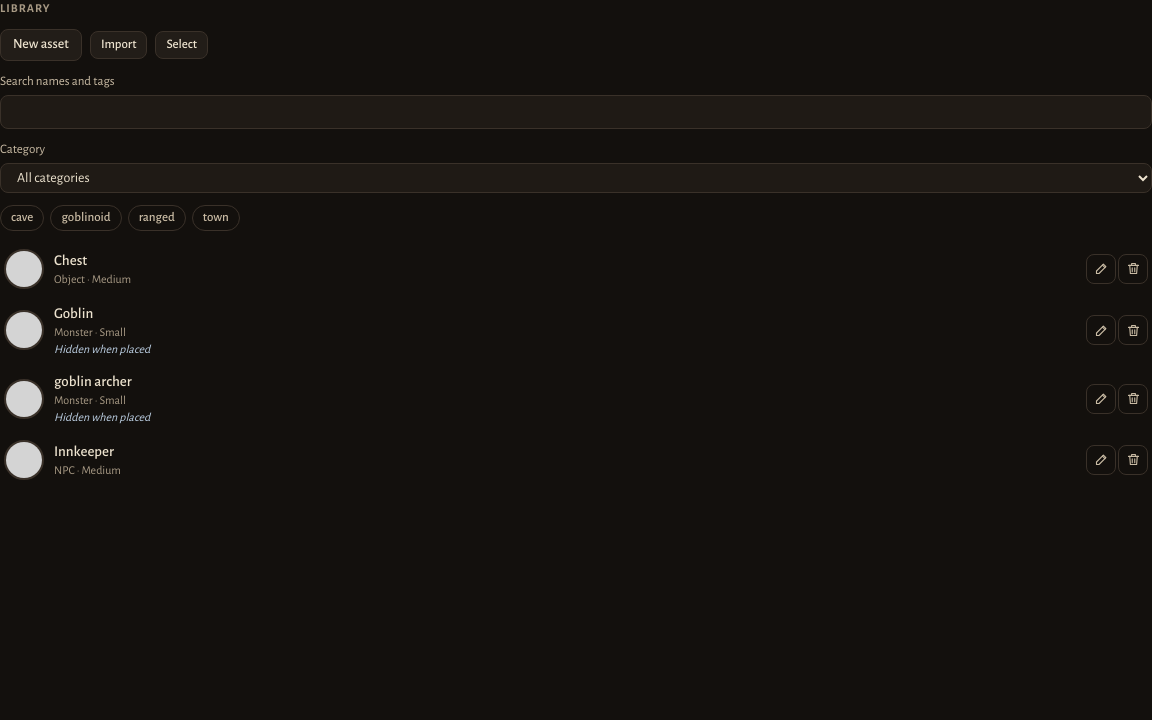
deleting (specs/03-domain-model.md §7, D-083) › lists every scene that uses an asset in use, deletes nothing and offers only Close
Click the button named "Delete Goblin".
click(1133, 330)  # box [1118,315,1148,345]
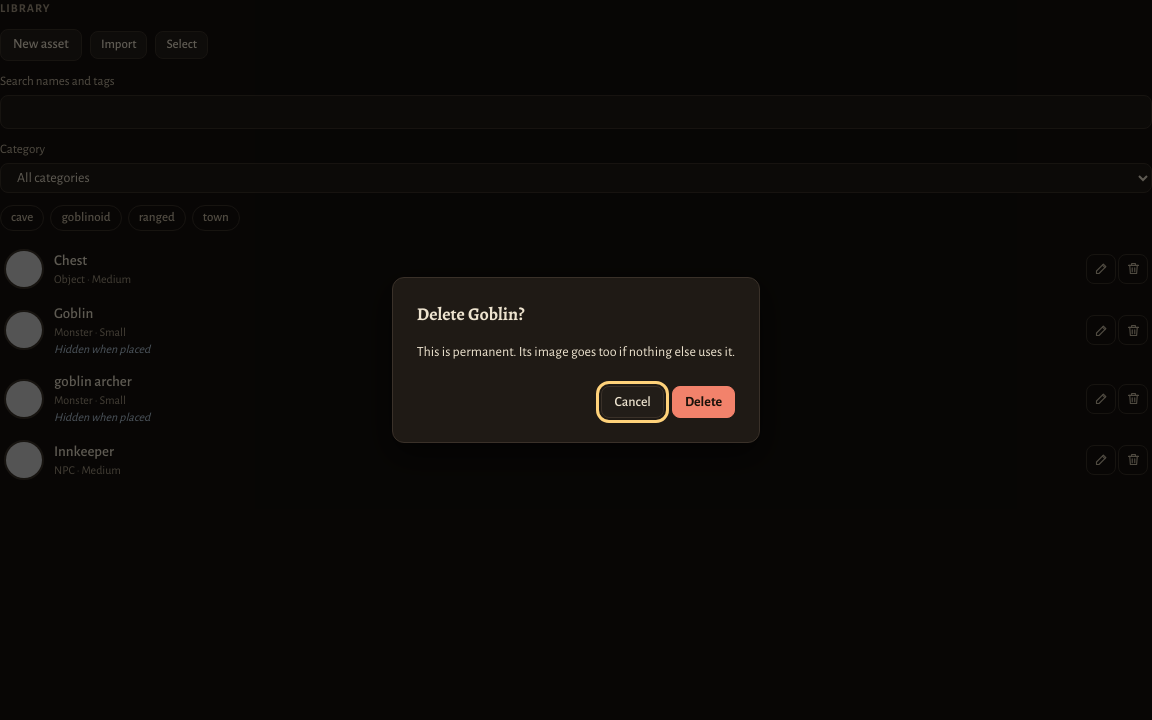
Click the button "Delete".
click(704, 402)  # box [672,386,735,418]
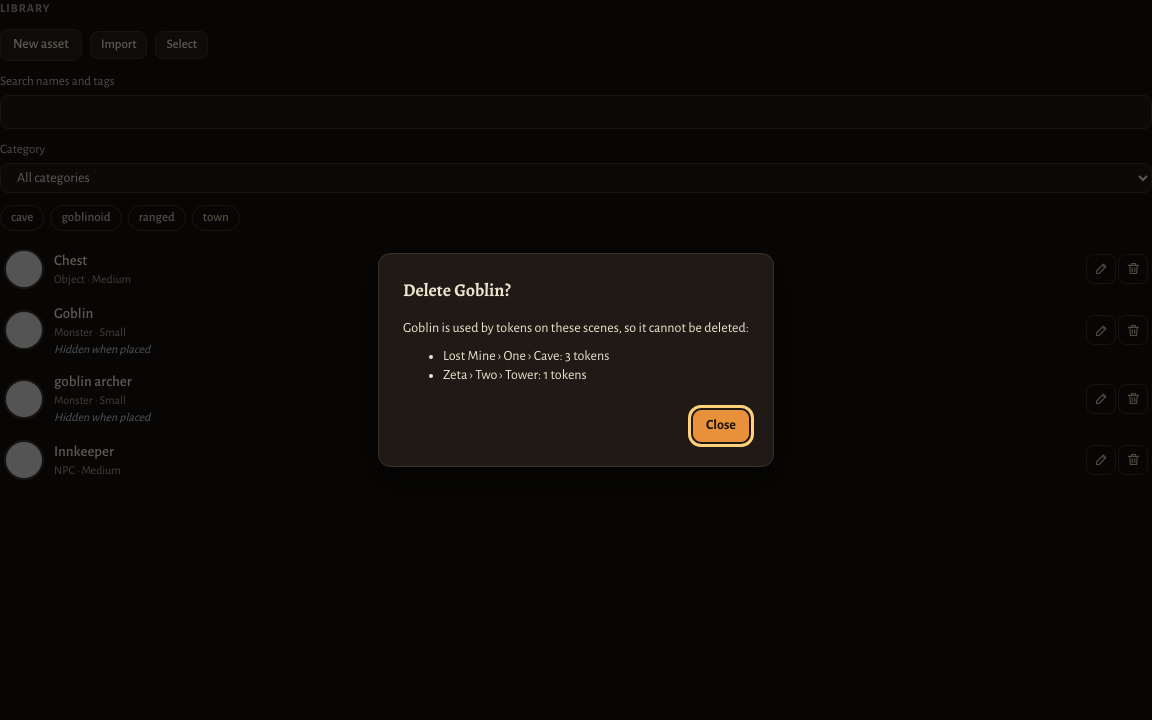
Click the button "Close".
click(721, 426)  # box [693,410,749,442]
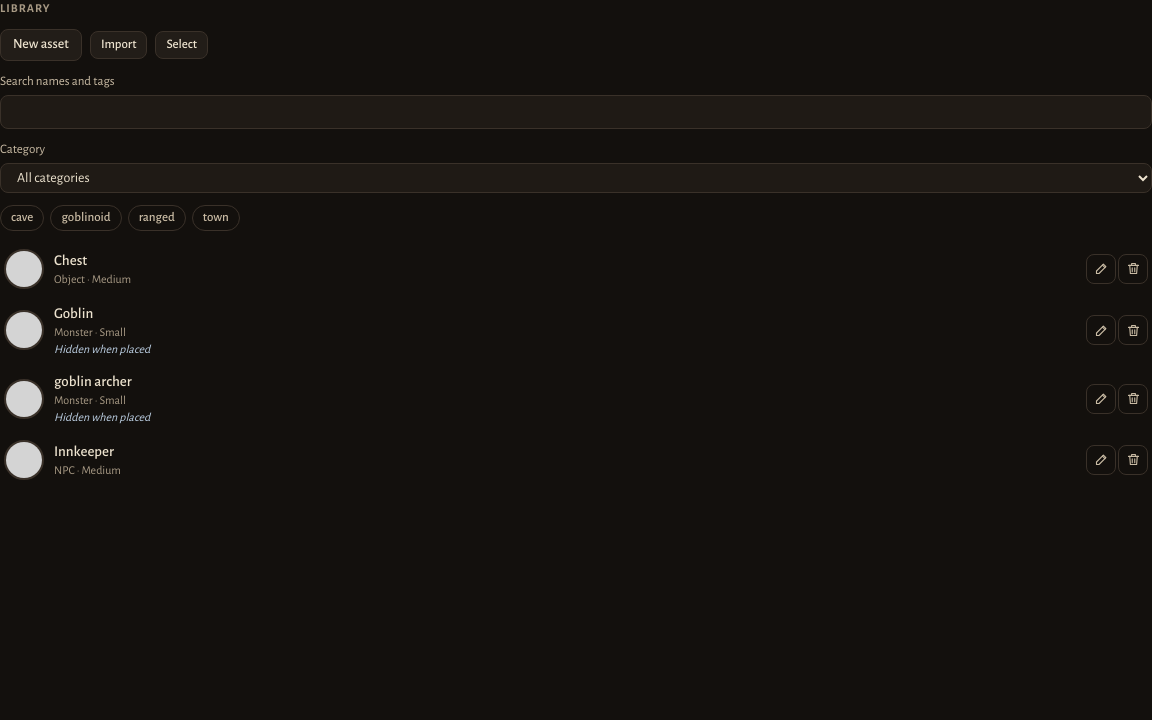
Expected: the button "goblinoid" is shown, [50,205,122,231]
Now the dialog is gone
